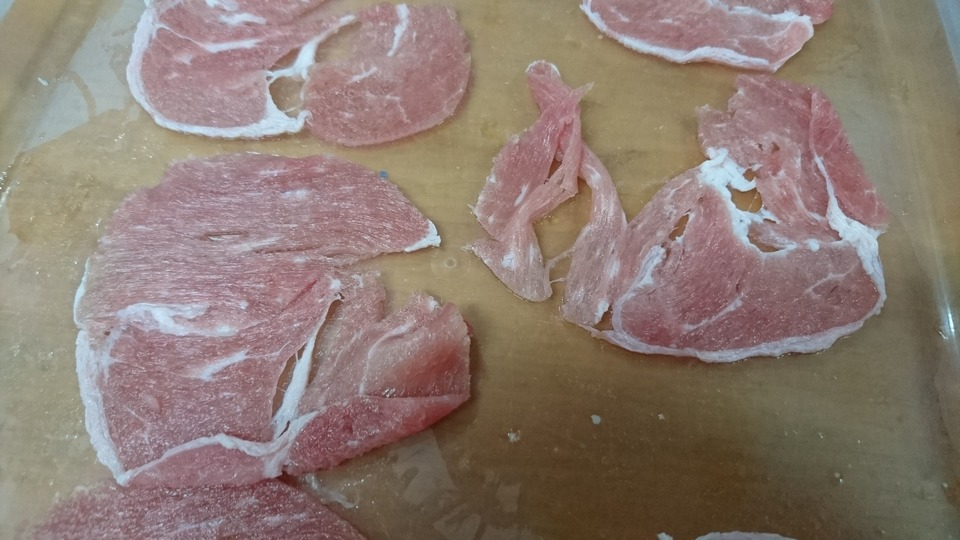restructured meat: (77, 163, 463, 470), (492, 72, 887, 365), (120, 6, 473, 147), (43, 467, 371, 540), (584, 3, 827, 69)
